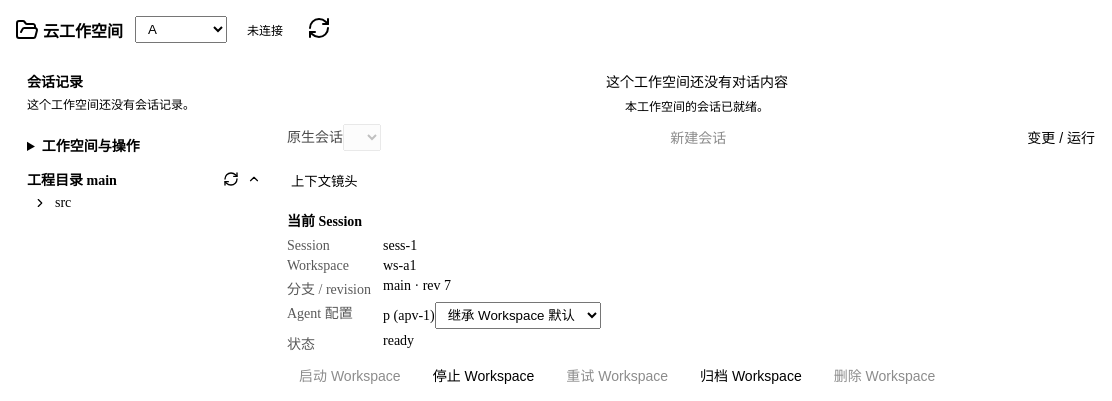
Test: R2-03 context isolation › reports a rejected directory read instead of showing an empty tree
Click the button "src" at (145, 203), box [27,193,263,213]
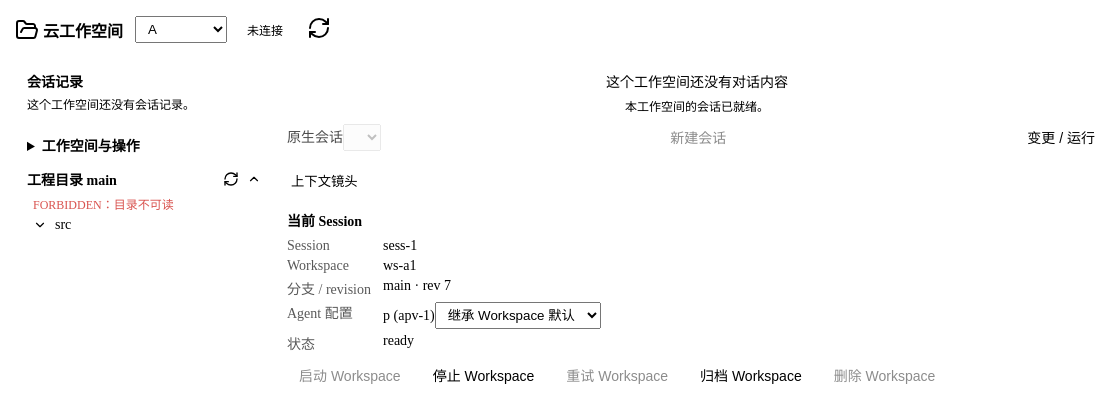
Expected: the text "FORBIDDEN：目录不可读" is shown, [33,198,174,212]
